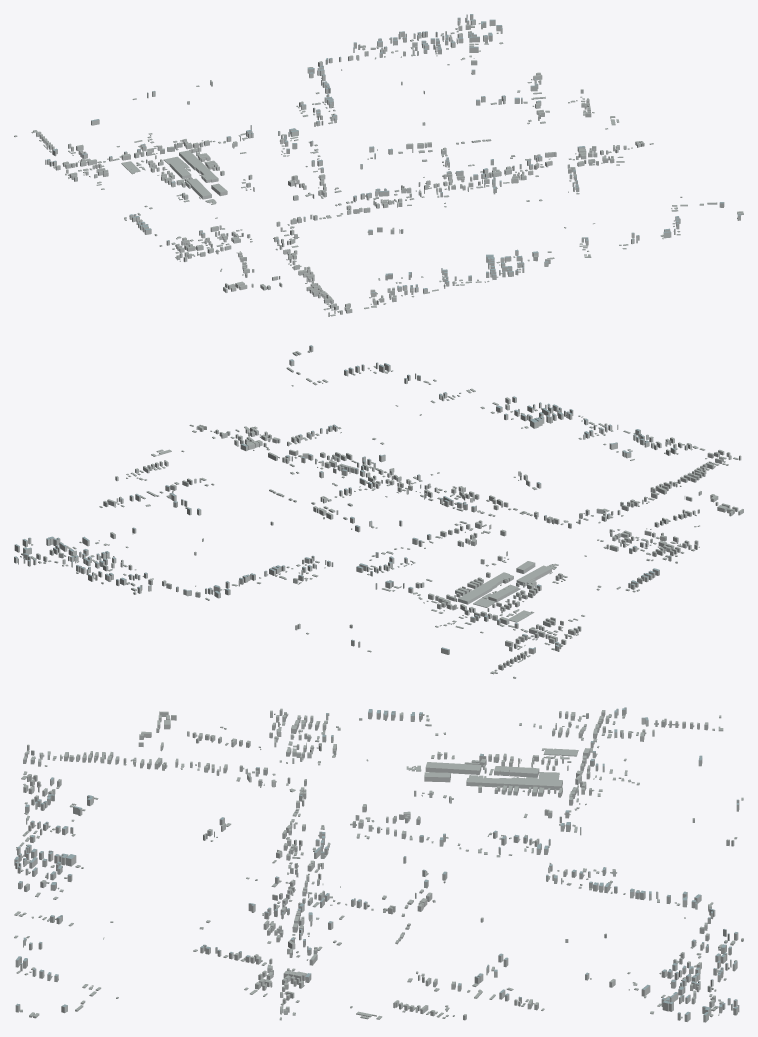
The model's file is far.glb.
3 views of the same model, one above another, from view 1: azimuth 30°, elevation 25°; view 2: azimuth 150°, elevation 25°; view 3: azimuth 270°, elevation 25° (orthographic). The views are drawn at different scales.
Bounding box in the file's own units: 2091 × 24.8 × 2088.
